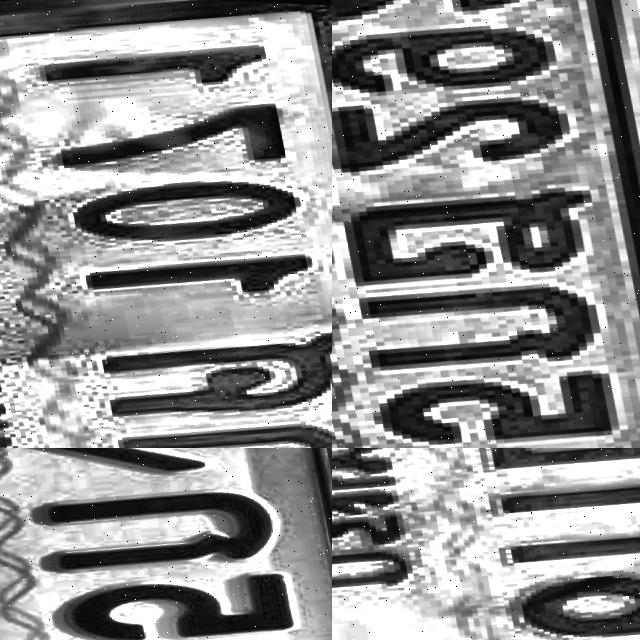license-plate: (0, 0, 332, 448), (332, 0, 640, 448), (0, 448, 332, 640), (332, 448, 640, 640)
